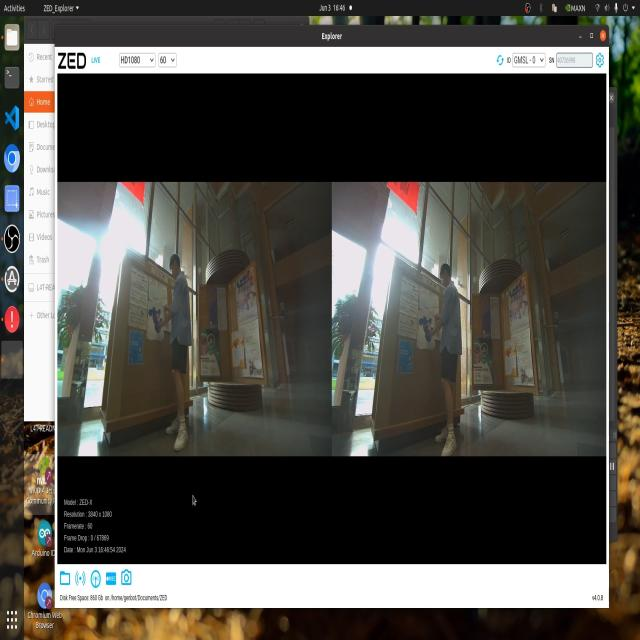blue: (420, 308, 438, 360), (150, 301, 161, 330)
